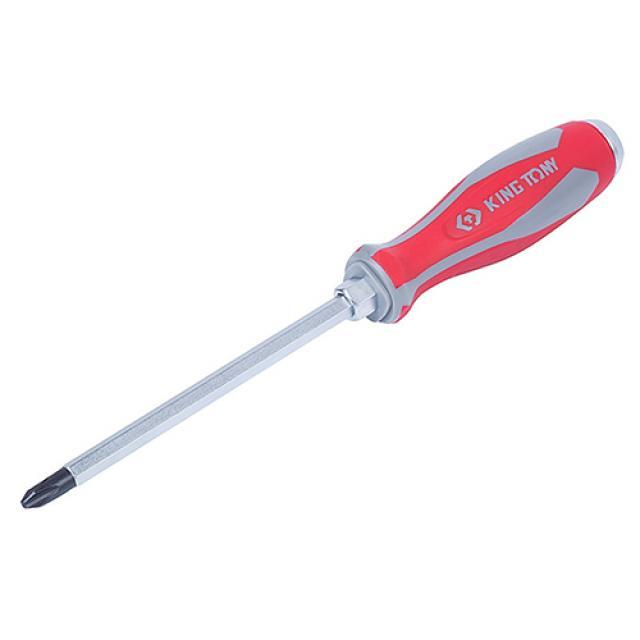screwdriver: (17, 111, 627, 514)
